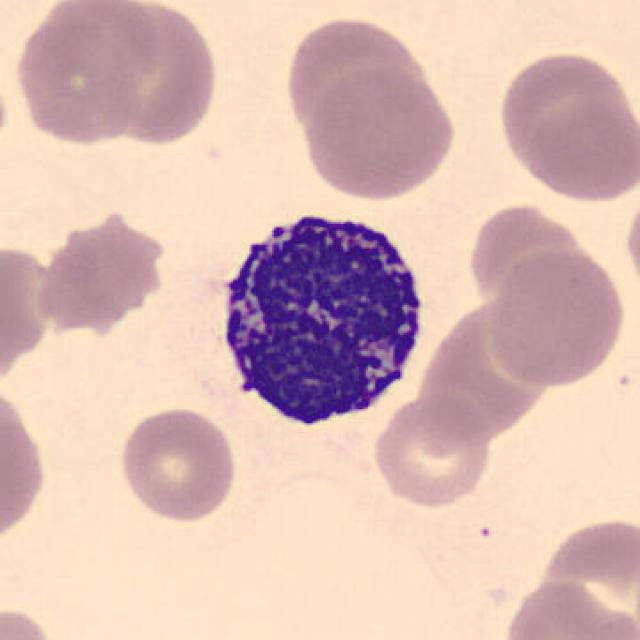Basophil: (206, 194, 434, 435)
RBC: (297, 65, 459, 203), (8, 0, 158, 146), (484, 243, 630, 390), (84, 2, 222, 148), (279, 11, 430, 142), (416, 308, 554, 450), (39, 210, 170, 347), (116, 402, 240, 525), (500, 48, 627, 168), (368, 393, 494, 510), (518, 95, 638, 205), (534, 512, 638, 638), (461, 199, 584, 299), (0, 376, 50, 556), (0, 240, 61, 386), (499, 576, 636, 640), (622, 176, 640, 304), (0, 603, 60, 640)
